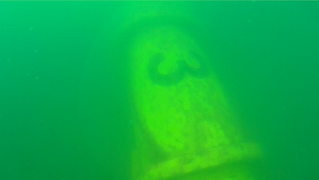3: (147, 48, 209, 87)
pipe: (113, 1, 266, 179)
